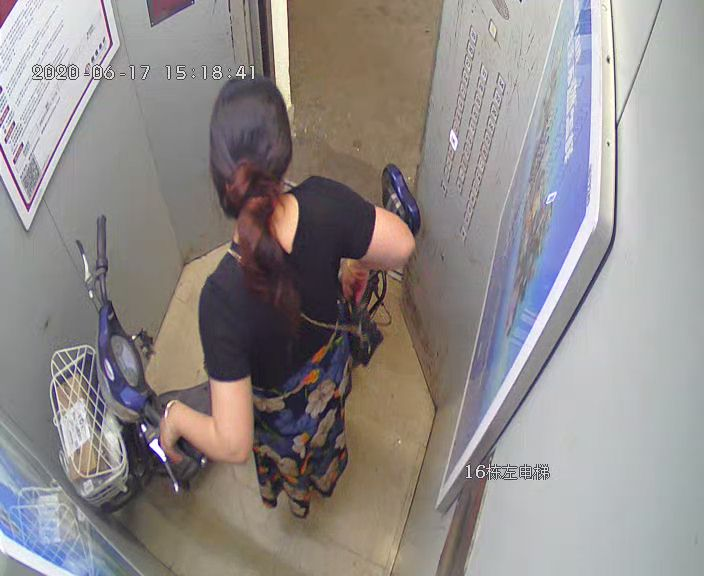Electric-bicycle: (52, 165, 418, 498)
